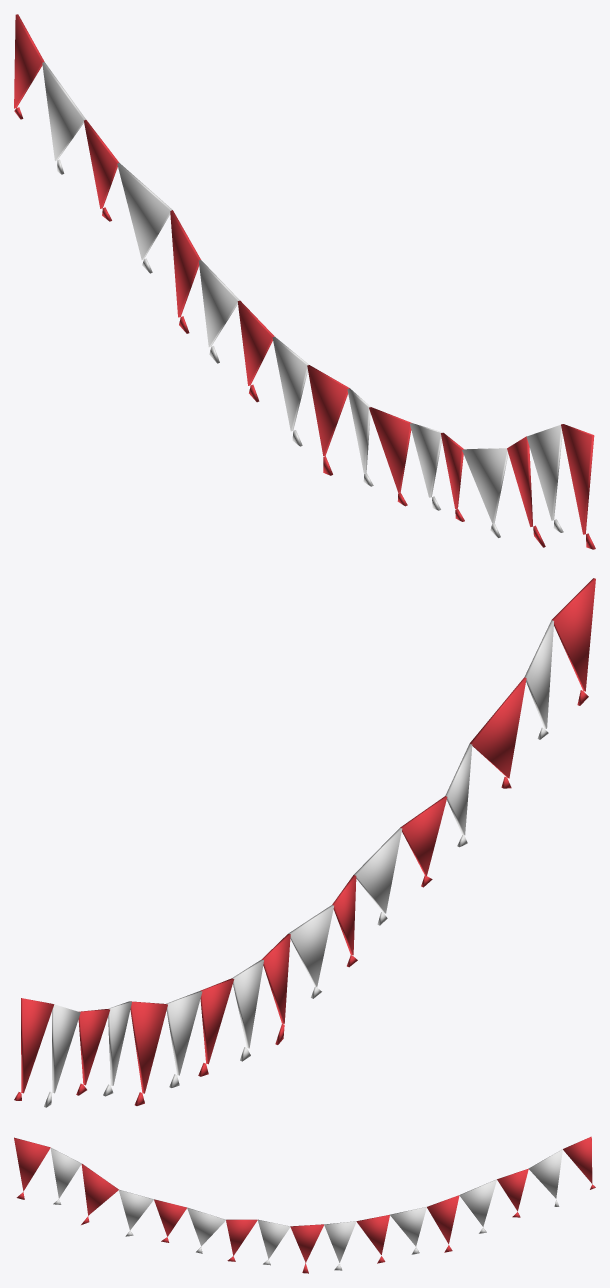
Rendered from TentBanners.fbx.
3 views of the same model, one above another, from view 1: azimuth 30°, elevation 25°; view 2: azimuth 150°, elevation 25°; view 3: azimuth 270°, elevation 25° (orthographic). The views are drawn at different scales.
Visible parts, largest first — view 1: Plane; view 2: Plane; view 3: Plane.
Boxes of the visible parts, x1,y1,x2,y2 form: Plane: [14, 14, 595, 549]; Plane: [14, 578, 595, 1107]; Plane: [14, 1136, 595, 1273].
Size of the model in its own units: 13.1 by 350 by 86.55.
